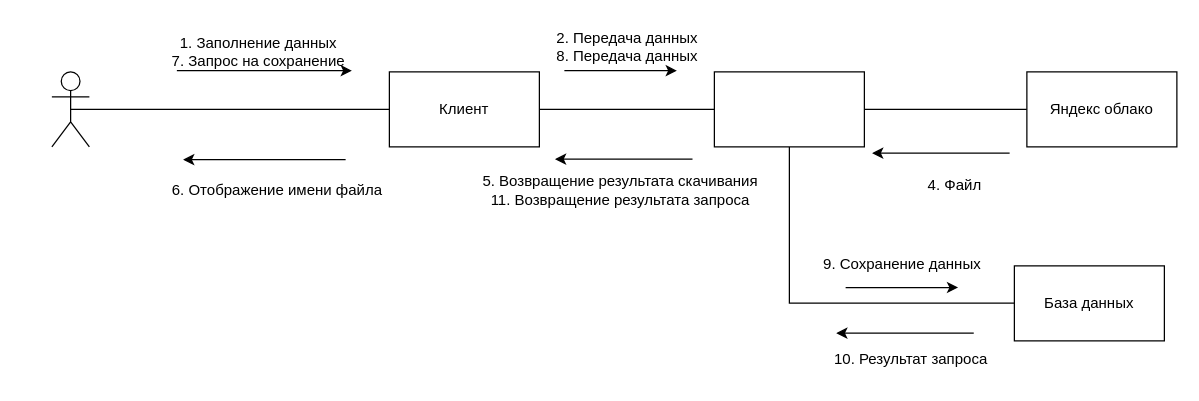
The diagram is 1199 pixels wide and 401 high, and some of its shapes have lost their labels. The centre of each missing label's shape, as x and y in pixels:
"Пользователь" goes at pixel 70 109.
"Сервер" goes at pixel 788 109.
